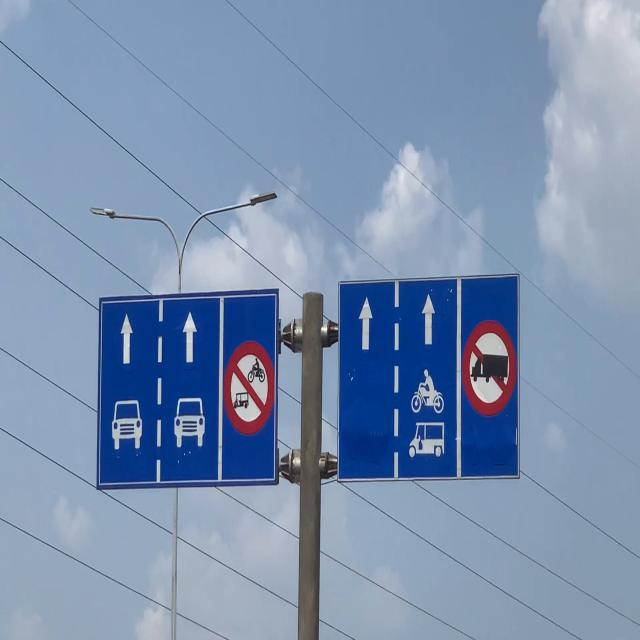Cam con lai: (459, 319, 516, 418), (223, 338, 277, 436)
